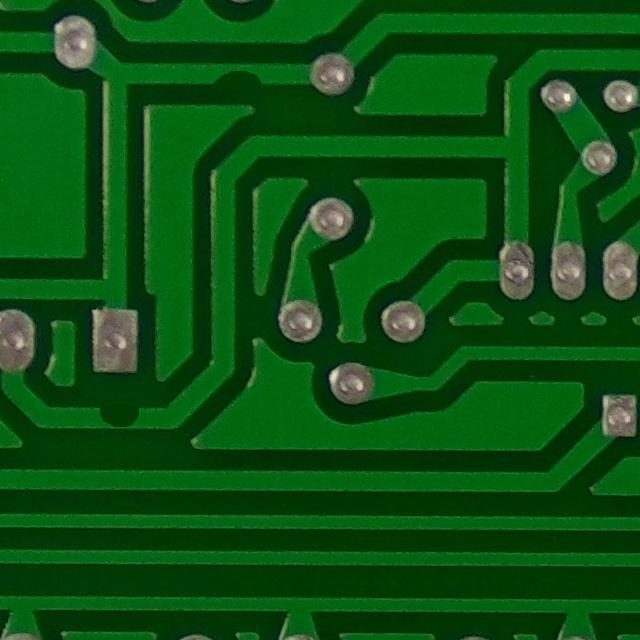mouse_bite: (195, 52, 275, 101), (84, 390, 157, 443)
